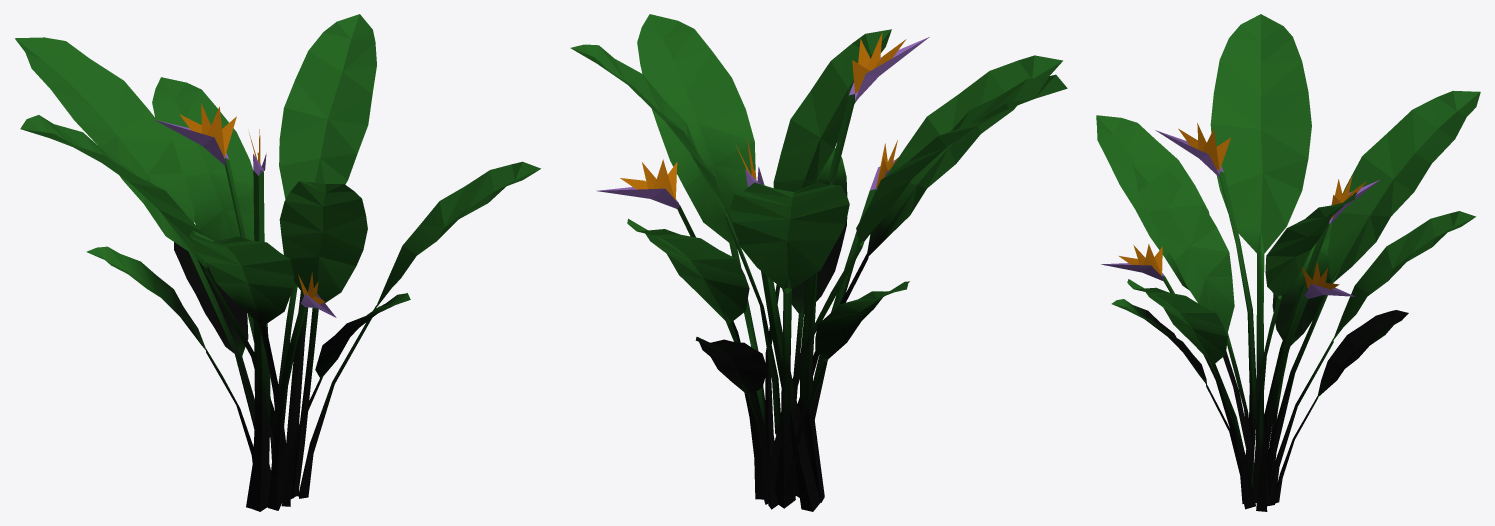
Rendered from SM_BirdofParadise_1.FBX.
3 renders of one model, left to right at view 1: azimuth 30°, elevation 25°; view 2: azimuth 150°, elevation 25°; view 3: azimuth 270°, elevation 25°, orthographic. The views are drawn at different scales.
Visible parts, largest first — view 1: SM_BirdofParadise_1; view 2: SM_BirdofParadise_1; view 3: SM_BirdofParadise_1.
Boxes of the visible parts, box(x1,y1,x2,y2) form: SM_BirdofParadise_1: box(15, 14, 540, 511); SM_BirdofParadise_1: box(570, 14, 1067, 511); SM_BirdofParadise_1: box(1096, 14, 1480, 511).
Bounding box in the file's own units: 268 × 249 × 227.
